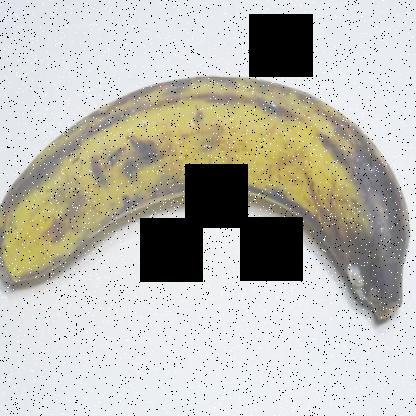overripe: (1, 45, 415, 366)
rotten: (317, 114, 415, 351)
